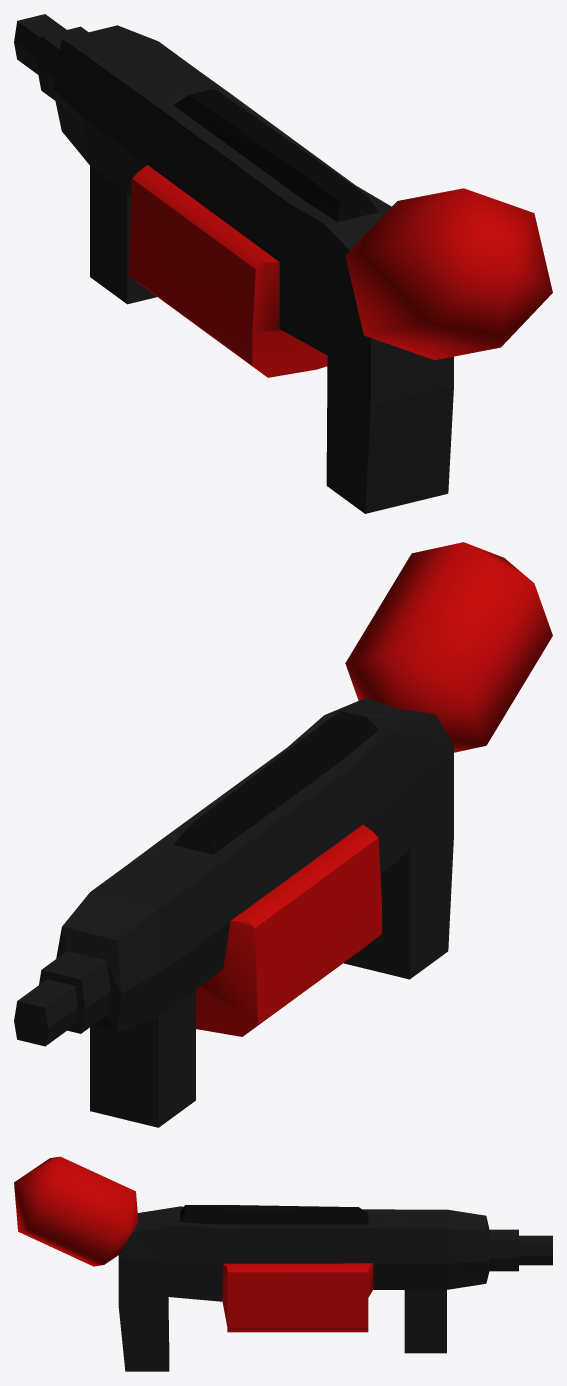
File: Machine Gun.FBX
The picture shows the model from 3 angles, top to bottom: view 1: azimuth 30°, elevation 25°; view 2: azimuth 150°, elevation 25°; view 3: azimuth 270°, elevation 25°; orthographic projection. The views are drawn at different scales.
Visible parts, largest first — view 1: Weapon, Clip; view 2: Weapon, Clip; view 3: Weapon, Clip.
Boxes of the visible parts, <box> form: Weapon: <box>14,14,453,513</box>; Clip: <box>345,188,552,360</box>; Weapon: <box>14,697,453,1127</box>; Clip: <box>345,542,552,752</box>; Weapon: <box>118,1205,552,1371</box>; Clip: <box>14,1156,138,1266</box>.
Bounding box in the file's own units: 17.62 × 46.49 × 112.
